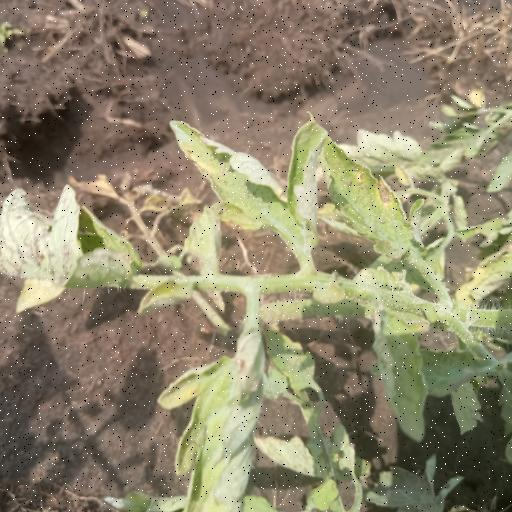Tomato_Brown_Spots: (166, 117, 336, 251), (294, 114, 434, 272)
